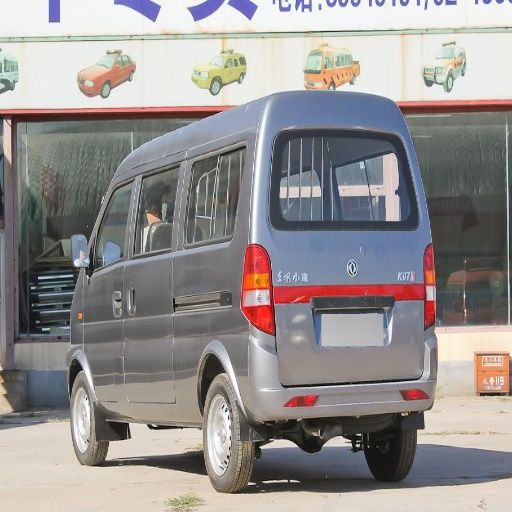back_bumper: (241, 329, 433, 421)
back_left_door: (333, 131, 401, 208), (140, 159, 186, 229)
back_left_light: (241, 246, 274, 335)
back_right_door: (274, 132, 311, 212)
trunk: (253, 207, 422, 382), (144, 306, 232, 381)
